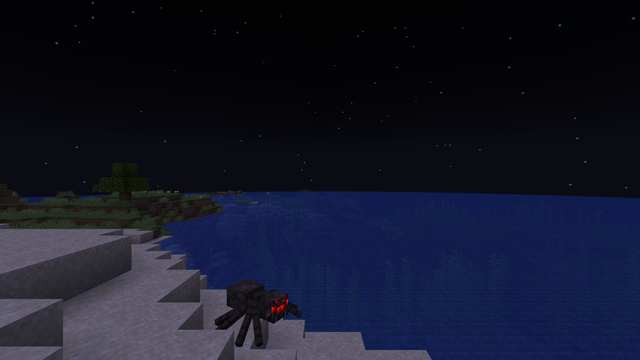araignees: (222, 277, 290, 340)
